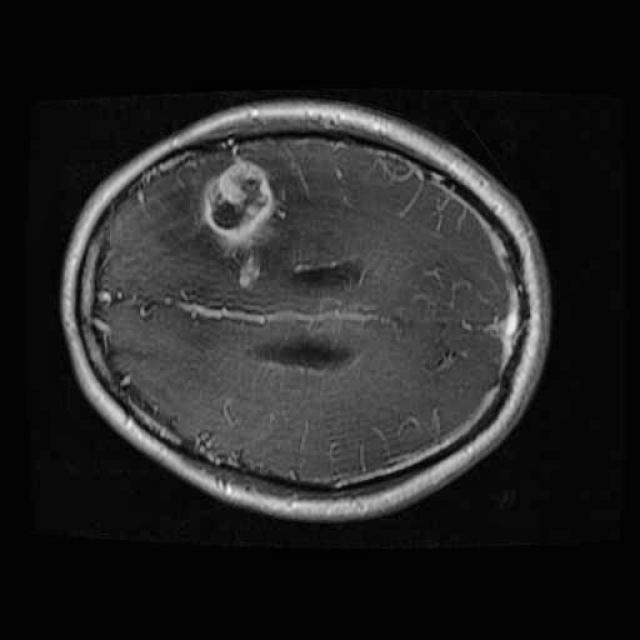Non-Tumor: (192, 148, 292, 300)
